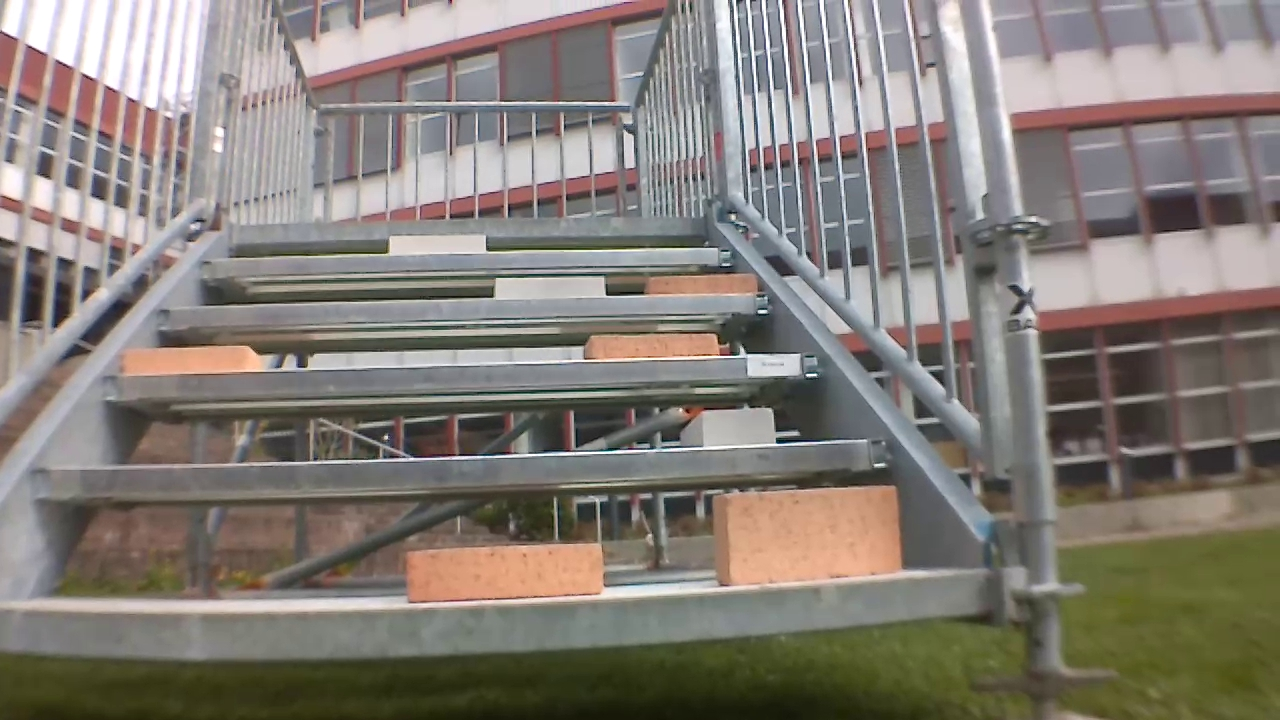brick: (731, 475, 905, 584), (408, 534, 600, 606), (580, 333, 723, 364), (124, 344, 267, 374), (682, 403, 783, 444), (650, 274, 761, 301), (494, 272, 612, 295), (388, 234, 490, 254)
edge: (0, 570, 1004, 660), (29, 430, 898, 507), (97, 344, 829, 405), (145, 290, 788, 329), (196, 247, 736, 279), (221, 209, 722, 242)
stairs: (0, 0, 1083, 710)
steps: (0, 200, 1030, 662)
